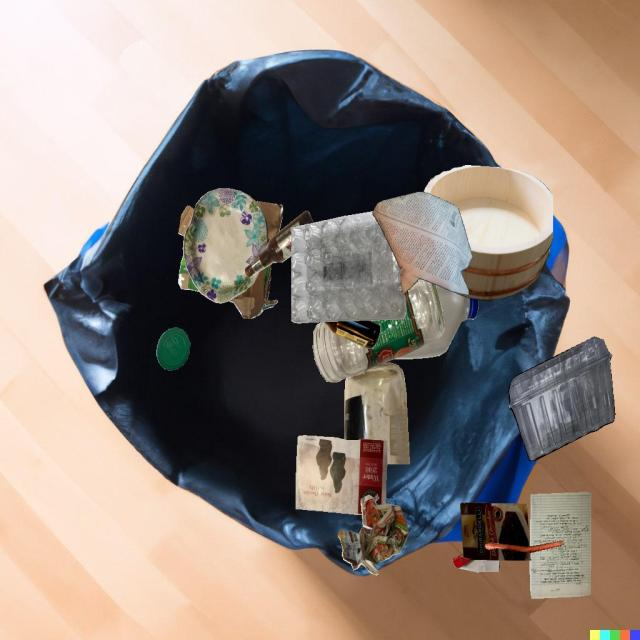biowaste: (485, 541, 564, 553)
cardboard: (183, 188, 268, 303), (184, 213, 277, 278), (460, 503, 531, 560)
combustible waste: (424, 165, 553, 301)
glass: (313, 279, 445, 382), (344, 362, 410, 464), (245, 211, 313, 277), (323, 320, 380, 349)
paper: (373, 192, 473, 295), (296, 435, 387, 515), (529, 492, 591, 599), (338, 495, 409, 575), (453, 554, 500, 572)
plastic: (508, 337, 615, 461), (291, 211, 406, 323), (393, 285, 478, 359), (156, 327, 190, 370)
